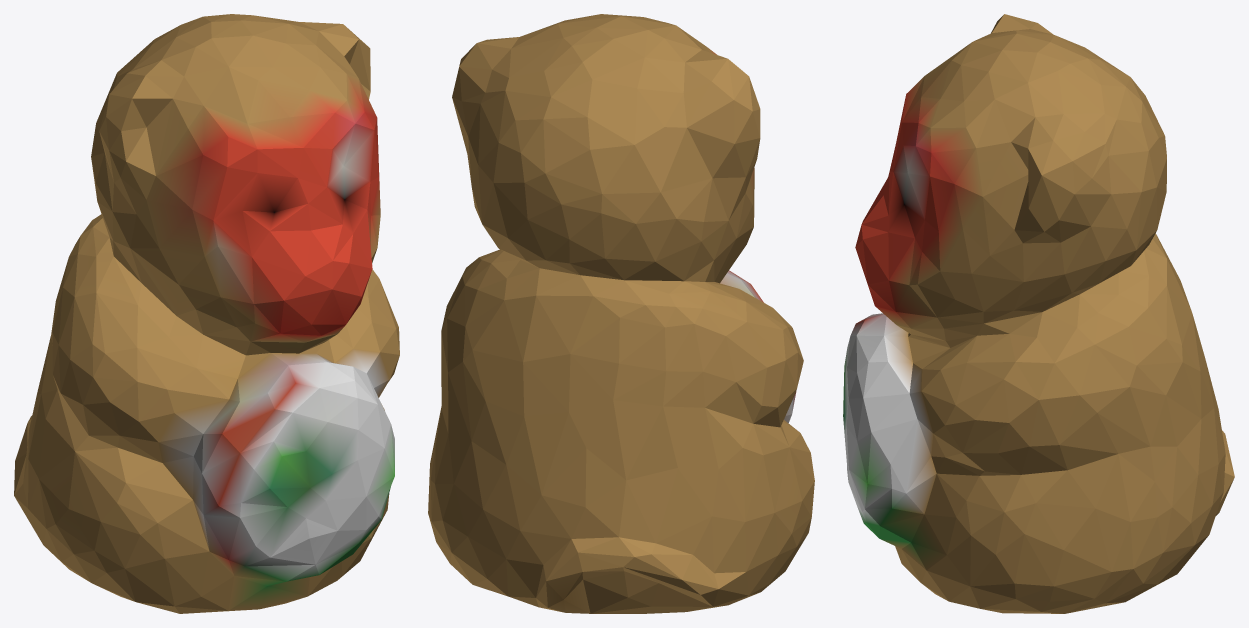
File: monkey_simplified.obj
The picture shows the model from 3 angles, left to right: view 1: azimuth 30°, elevation 25°; view 2: azimuth 150°, elevation 25°; view 3: azimuth 270°, elevation 25°; orthographic projection. The views are drawn at different scales.
Size of the model in its own units: 63.92 by 101 by 68.6.
